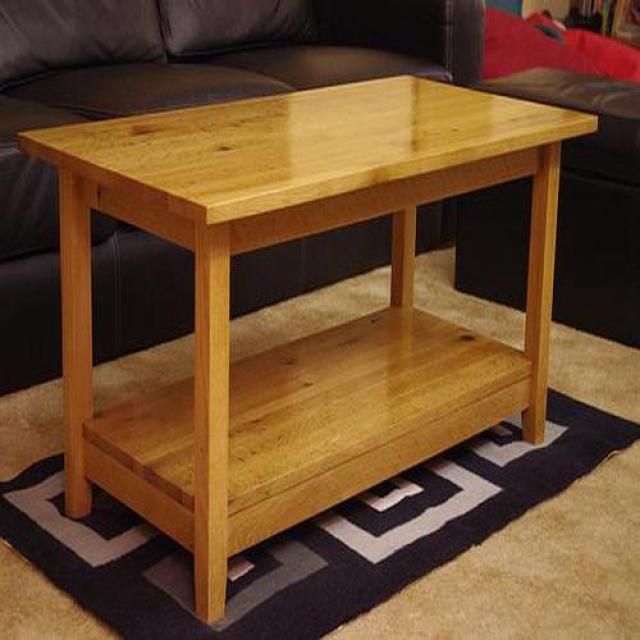table: (15, 76, 599, 625)
